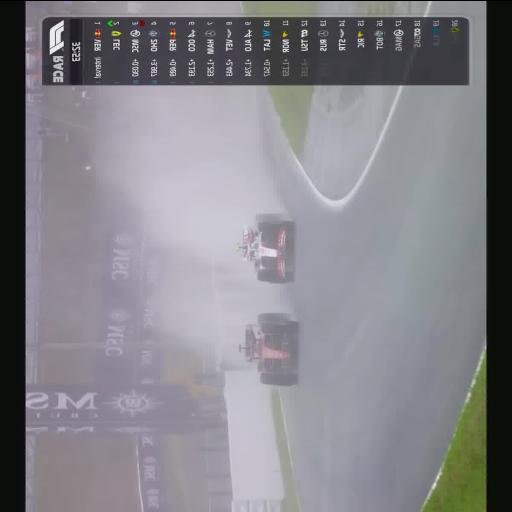f1_car: (239, 312, 297, 385), (237, 212, 293, 282)
